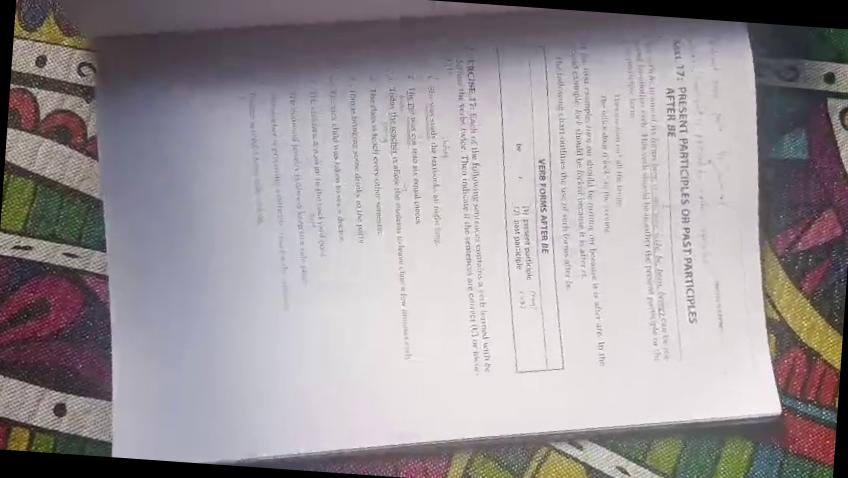Kertas: (119, 0, 746, 419)
